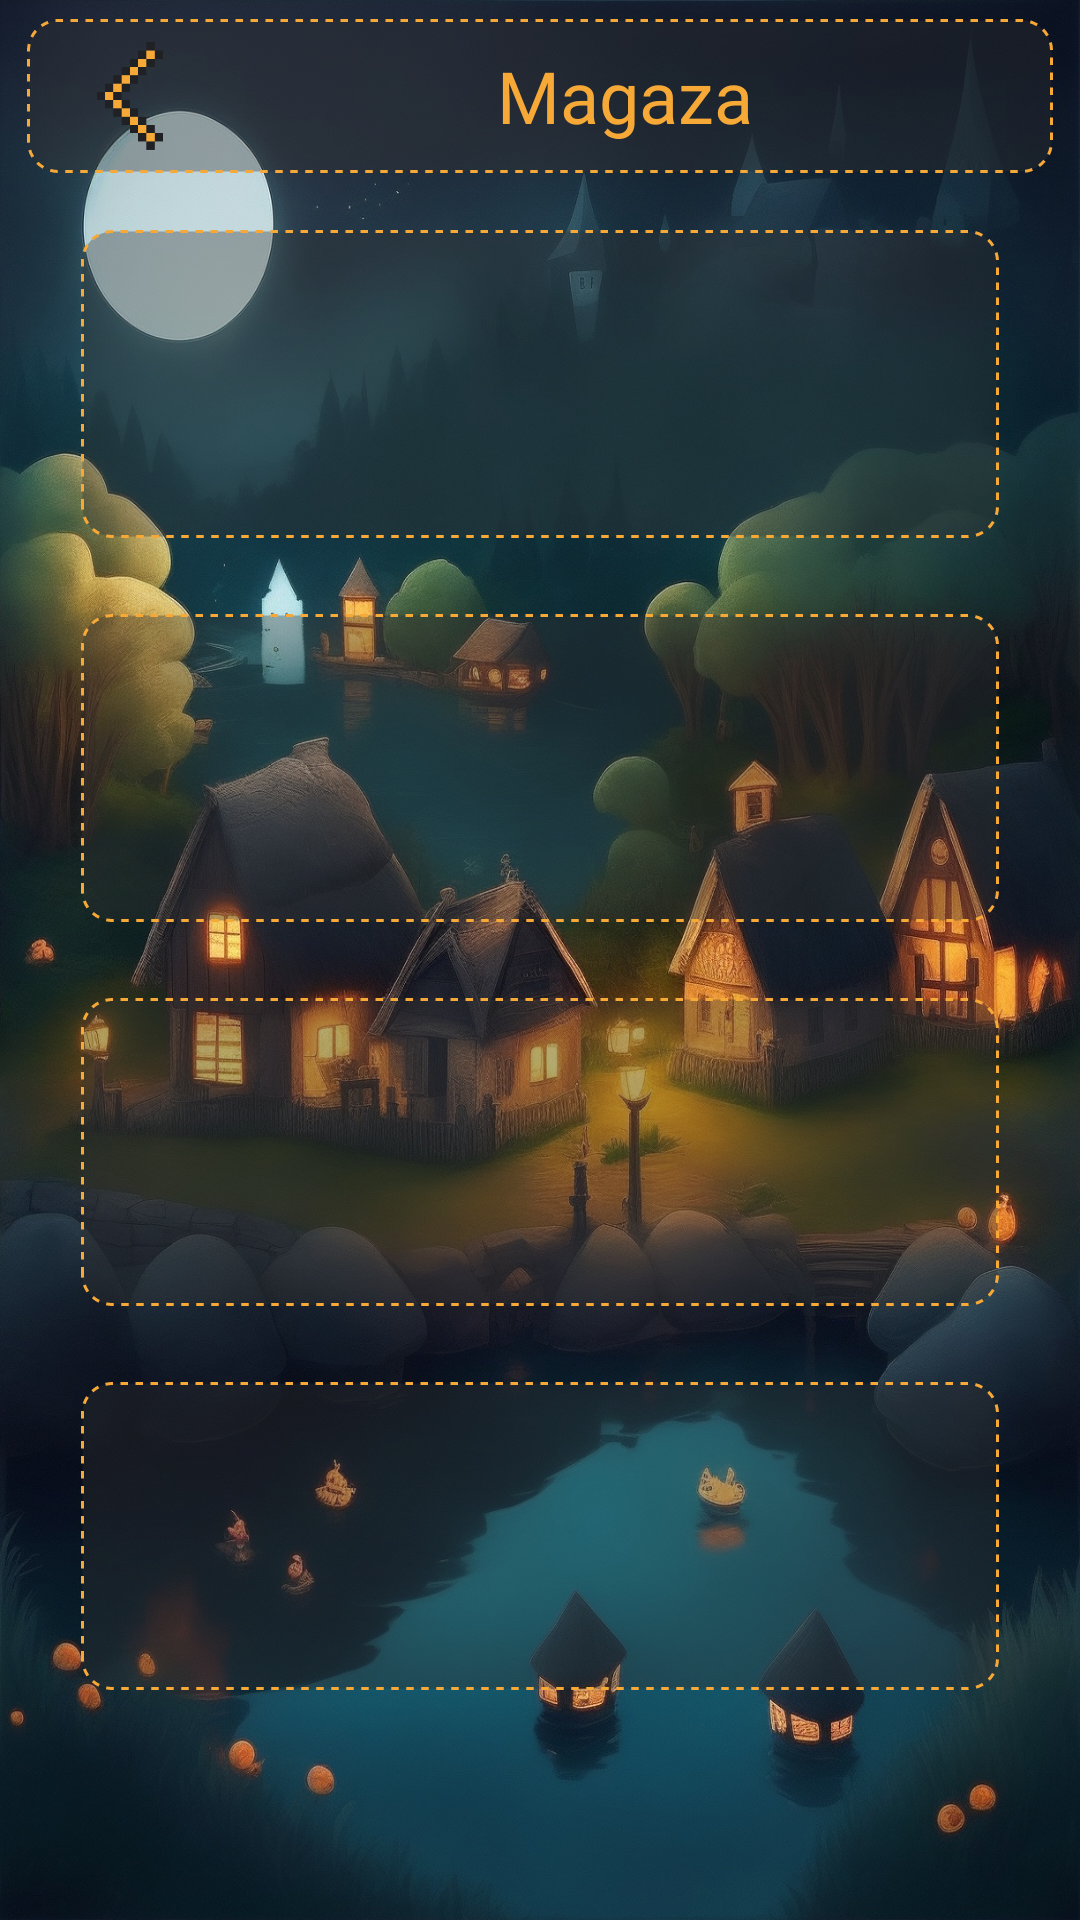

Named icons in this screenshot (1080 × 1920) and their centers, point (x, y):
geri: point (150, 104)
